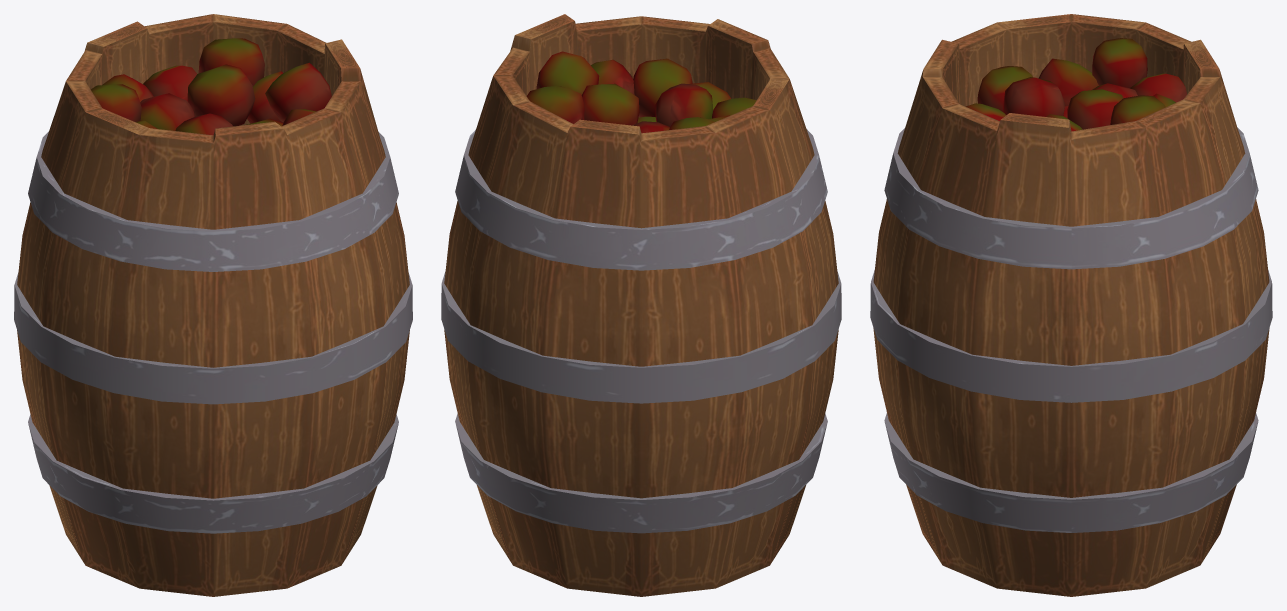
File: Barrel_Apples.gltf
The picture shows the model from 3 angles, left to right: view 1: azimuth 30°, elevation 25°; view 2: azimuth 150°, elevation 25°; view 3: azimuth 270°, elevation 25°; orthographic projection.
Visible parts, largest first — view 1: Barrel_Apples; view 2: Barrel_Apples; view 3: Barrel_Apples.
Part boxes in pixels (bbox=[...]): Barrel_Apples: bbox=[14, 14, 412, 596]; Barrel_Apples: bbox=[441, 14, 841, 596]; Barrel_Apples: bbox=[870, 14, 1272, 596].
Bounding box in the file's own units: 0.698 × 0.898 × 0.698.
3 materials, 3 textured.
